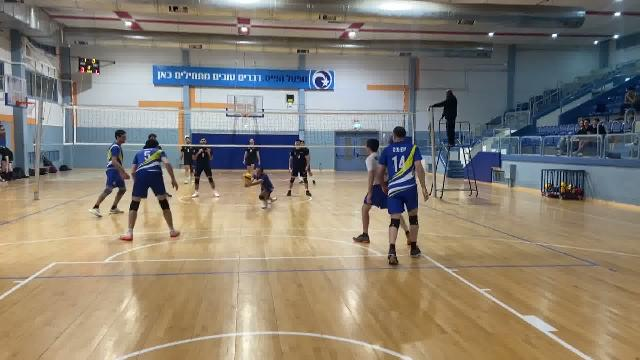ball: (243, 173, 254, 186)
